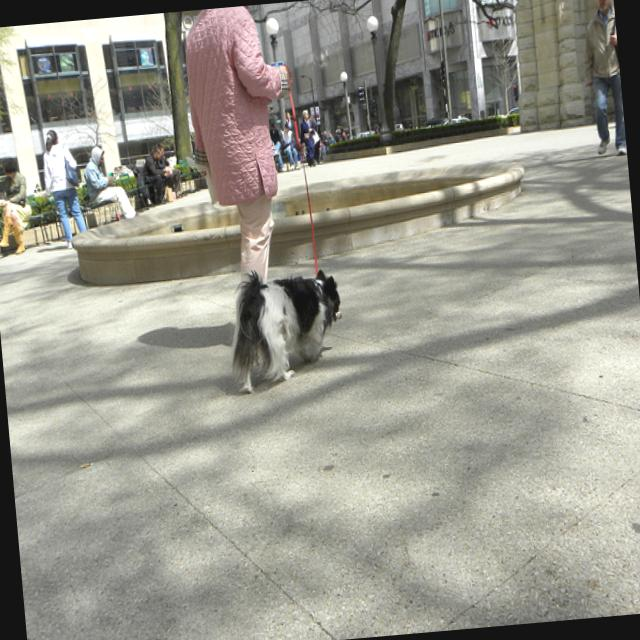Vehicle: (456, 116, 470, 124)
